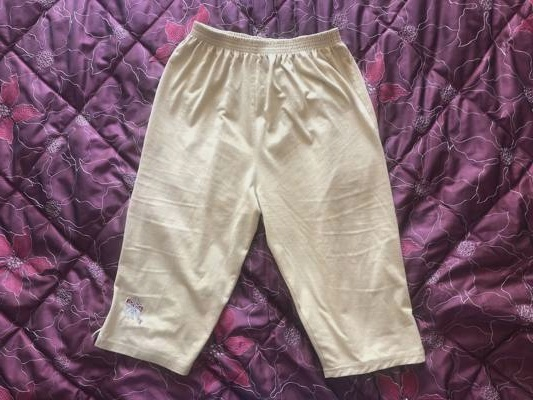Pants: (83, 29, 429, 378)
